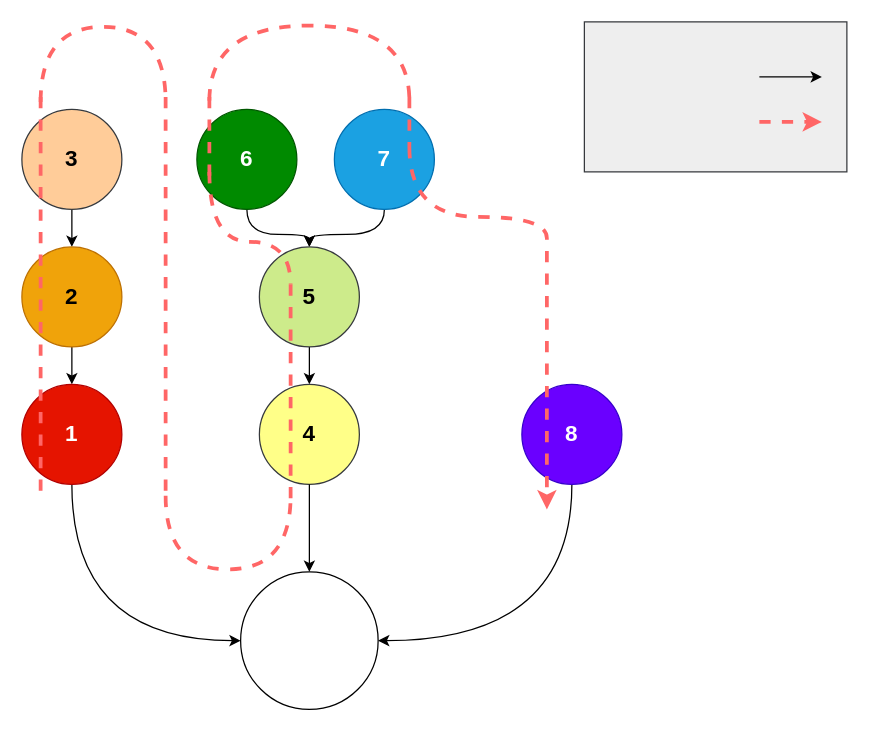
Image size: 869x731. Some labels were removed from this diagram. Here are the shapes that lost their labels. From the top down, the centre of each, then its label:
pixel 715 96: Inheritance Precedence Order
pixel 308 640: devweb1
